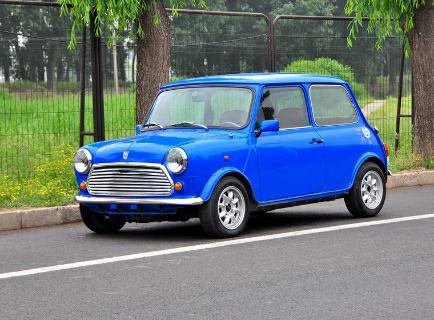MINI: (77, 68, 395, 240)
